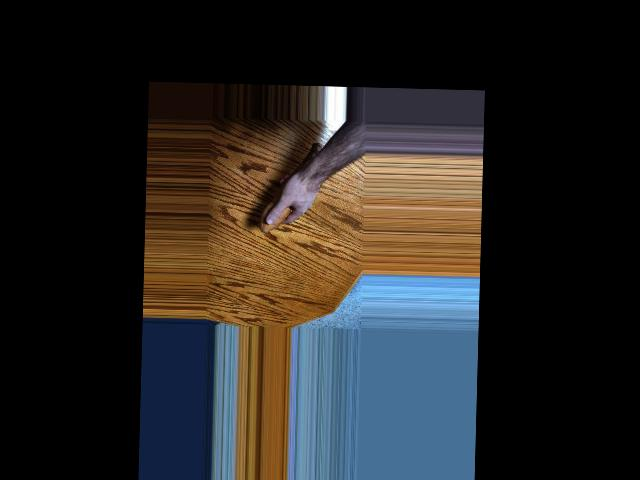sweet_potato: (259, 138, 324, 235)
